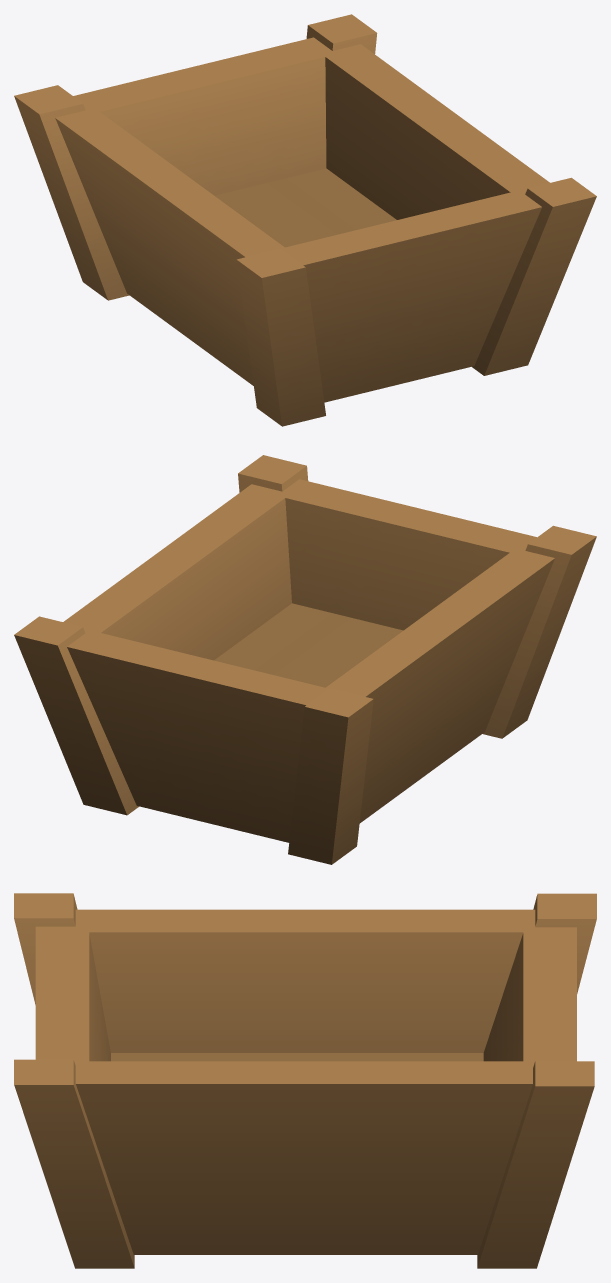
File: Wooden_Container.fbx
3 views of the same model, one above another, from view 1: azimuth 30°, elevation 25°; view 2: azimuth 150°, elevation 25°; view 3: azimuth 270°, elevation 25° (orthographic). The views are drawn at different scales.
Visible parts, largest first — view 1: Cube.025; view 2: Cube.025; view 3: Cube.025.
Part boxes in pixels (x1,y1,x2,y2): Cube.025: (14,14,596,426); Cube.025: (14,455,596,864); Cube.025: (14,893,596,1268).
Bounding box in the file's own units: 135 × 68.03 × 173.
